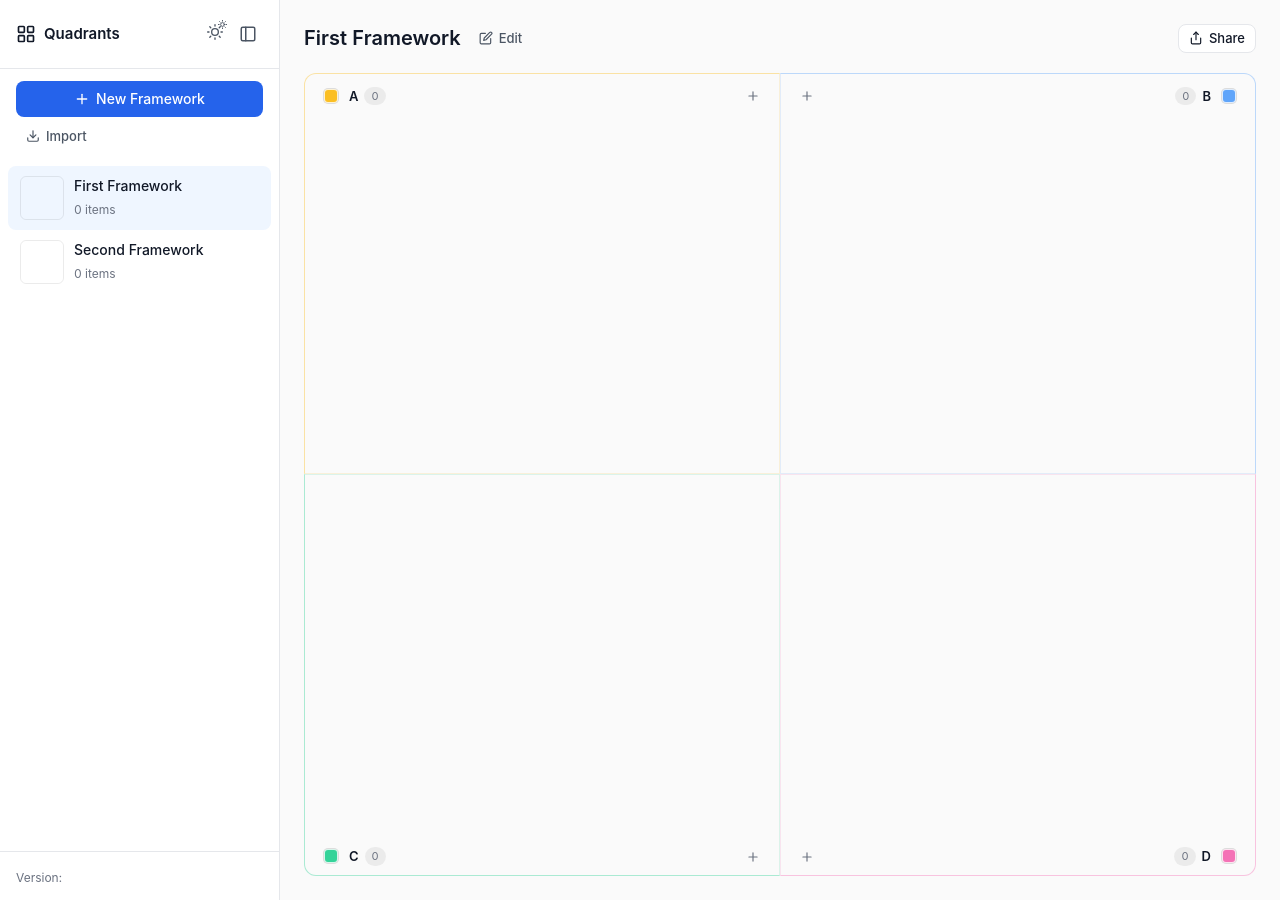
Scenario: App › mobile drawer dismissal on navigation (BUG-014) › leaves the desktop sidebar open when a framework is selected
The width and height of the screenshot is (1280, 900).
Click the button "Second Framework 0 items". click: (126, 262)
box: [8, 230, 243, 294]
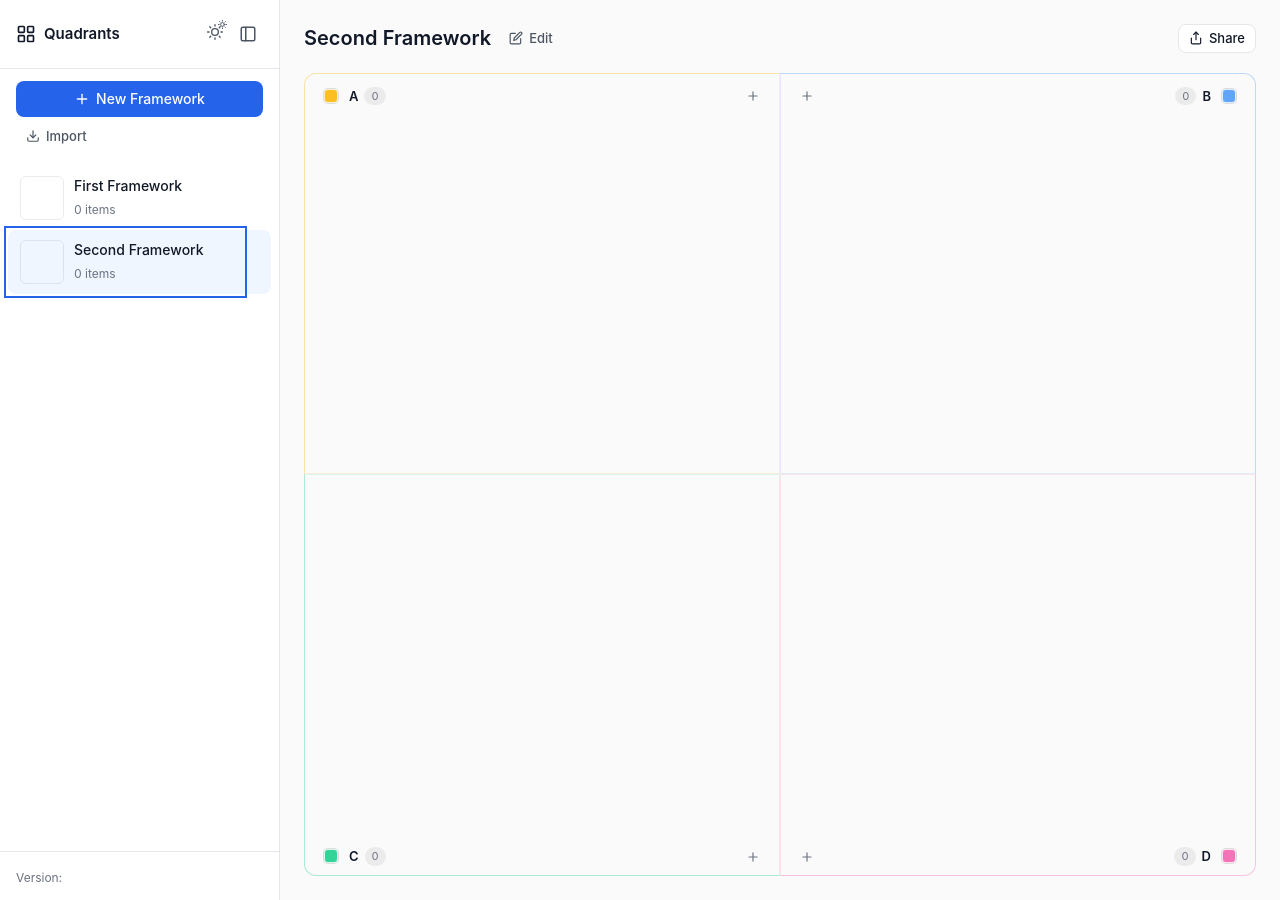
Expected: the heading "Second Framework" is shown, [304, 24, 491, 52]
